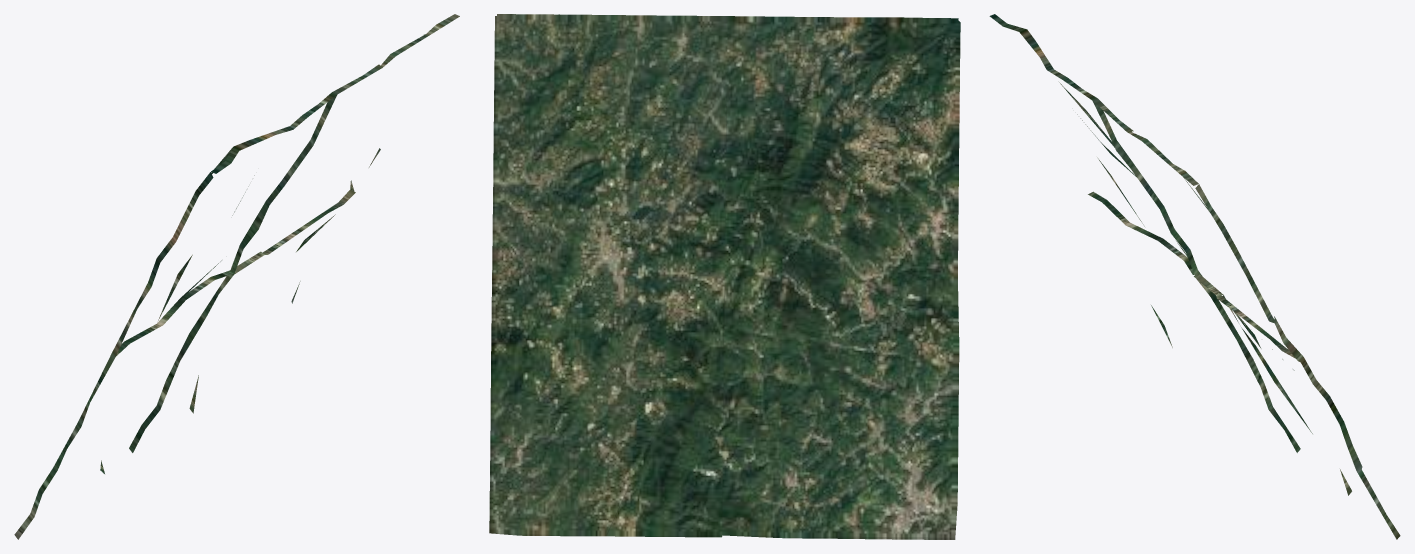
3 views of the same model, side by side, from view 1: azimuth 30°, elevation 25°; view 2: azimuth 150°, elevation 25°; view 3: azimuth 270°, elevation 25° (orthographic). The views are drawn at different scales.
Bounding box in the file's own units: 39936 × 35818 × 32510.
1 material, 1 textured.
